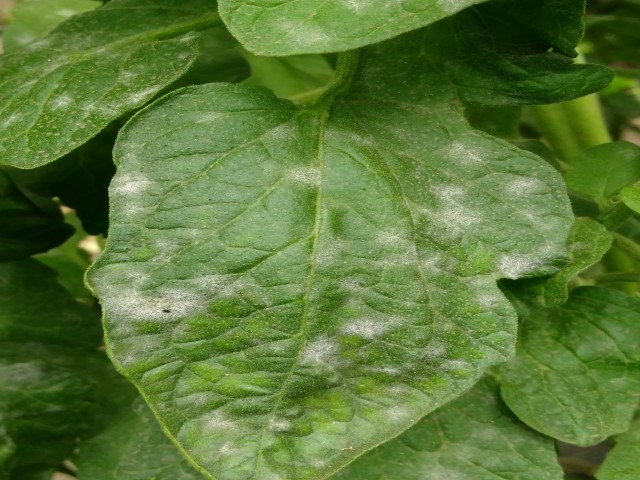oidio: (109, 276, 242, 328), (427, 190, 487, 239), (487, 169, 552, 200), (493, 249, 554, 280), (345, 315, 400, 341), (443, 136, 482, 170), (300, 335, 336, 368), (203, 408, 242, 437), (281, 167, 325, 191), (114, 173, 152, 200), (52, 90, 77, 112)
